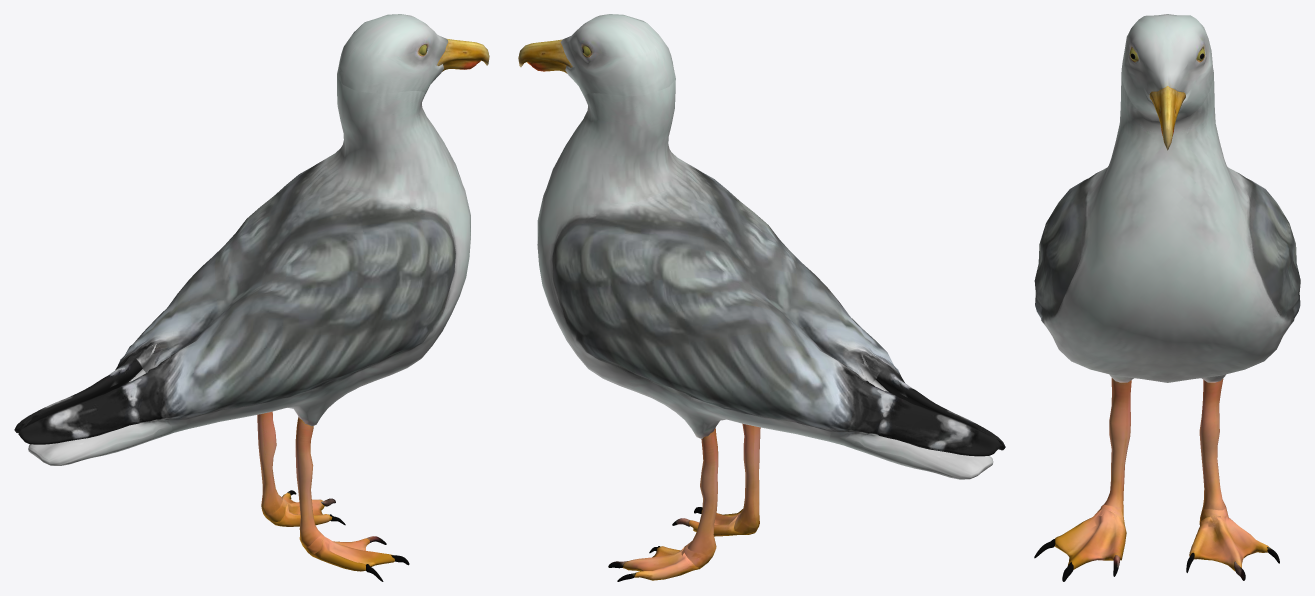
The model's file is seagull.glb.
3 views of the same model, side by side, from view 1: azimuth 30°, elevation 25°; view 2: azimuth 150°, elevation 25°; view 3: azimuth 270°, elevation 25° (orthographic). The views are drawn at different scales.
Visible parts, largest first — view 1: seagull; view 2: seagull; view 3: seagull.
Part boxes in pixels (bbox=[...]): seagull: bbox=[14, 14, 489, 581]; seagull: bbox=[518, 14, 1005, 581]; seagull: bbox=[1034, 14, 1300, 581].
Size of the model in its own units: 1.96 by 2 by 0.8338.
Materials: 1 (1 with a texture image).
